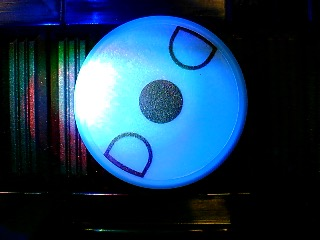BOHOMIPO2: (73, 16, 248, 189)
